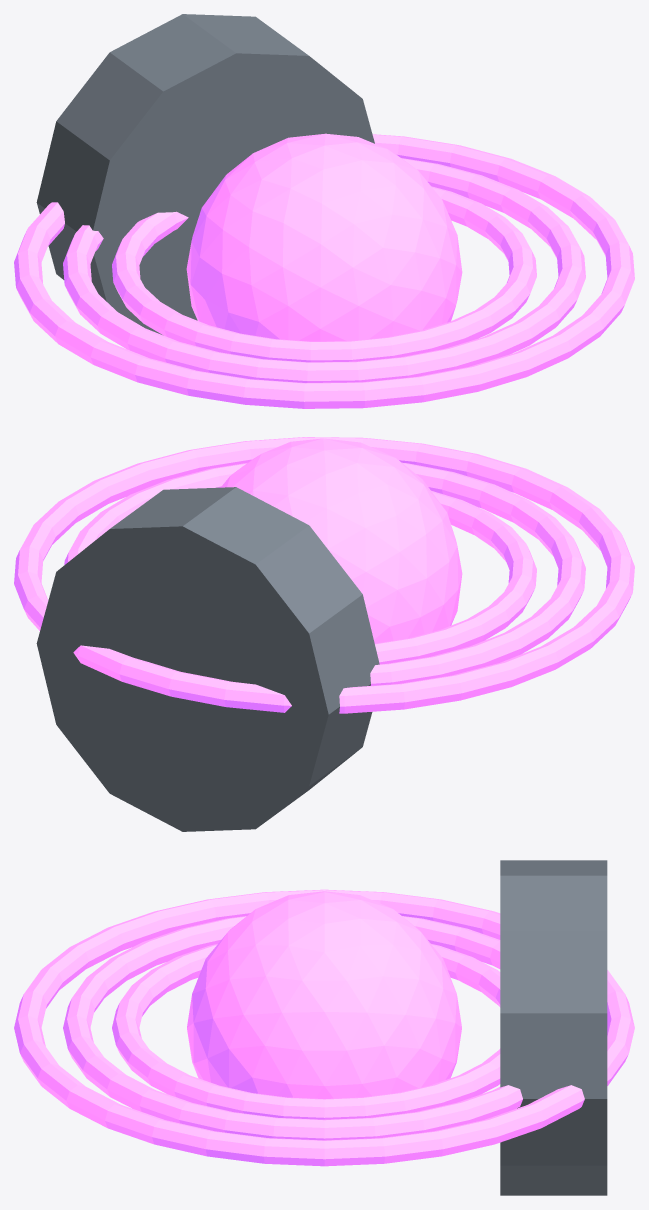
Rendered from magicata_02.glb.
3 renders of one model, top to bottom at view 1: azimuth 30°, elevation 25°; view 2: azimuth 150°, elevation 25°; view 3: azimuth 270°, elevation 25°, orthographic.
Visible parts, largest first — view 1: base, quantum_core, relay_ring2, relay_ring1, relay_ring0; view 2: base, relay_ring2, quantum_core, relay_ring1, relay_ring0; view 3: quantum_core, base, relay_ring2, relay_ring1, relay_ring0.
Part boxes in pixels (bbox=[...]): base: bbox=[36, 14, 374, 334]; quantum_core: bbox=[186, 133, 462, 341]; relay_ring2: bbox=[14, 134, 634, 408]; relay_ring1: bbox=[63, 158, 585, 382]; relay_ring0: bbox=[112, 186, 536, 362]; base: bbox=[36, 487, 379, 831]; relay_ring2: bbox=[14, 437, 634, 713]; quantum_core: bbox=[221, 438, 462, 643]; relay_ring1: bbox=[64, 462, 585, 685]; relay_ring0: bbox=[375, 490, 536, 664]; quantum_core: bbox=[187, 891, 461, 1098]; base: bbox=[500, 860, 607, 1195]; relay_ring2: bbox=[14, 889, 634, 1166]; relay_ring1: bbox=[63, 916, 522, 1140]; relay_ring0: bbox=[112, 944, 500, 1119].
Bounding box in the file's own units: 2.03 × 1.1 × 2.03.
